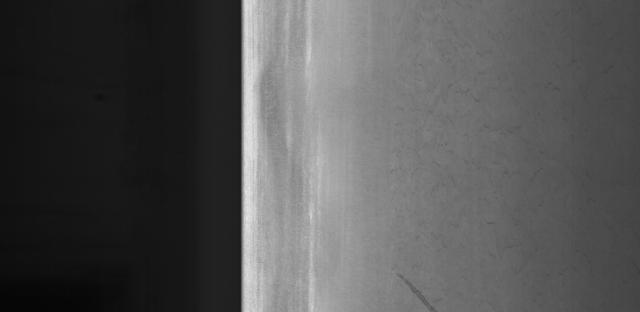silk_spot: (371, 17, 581, 248)
water_spot: (388, 267, 454, 312)
